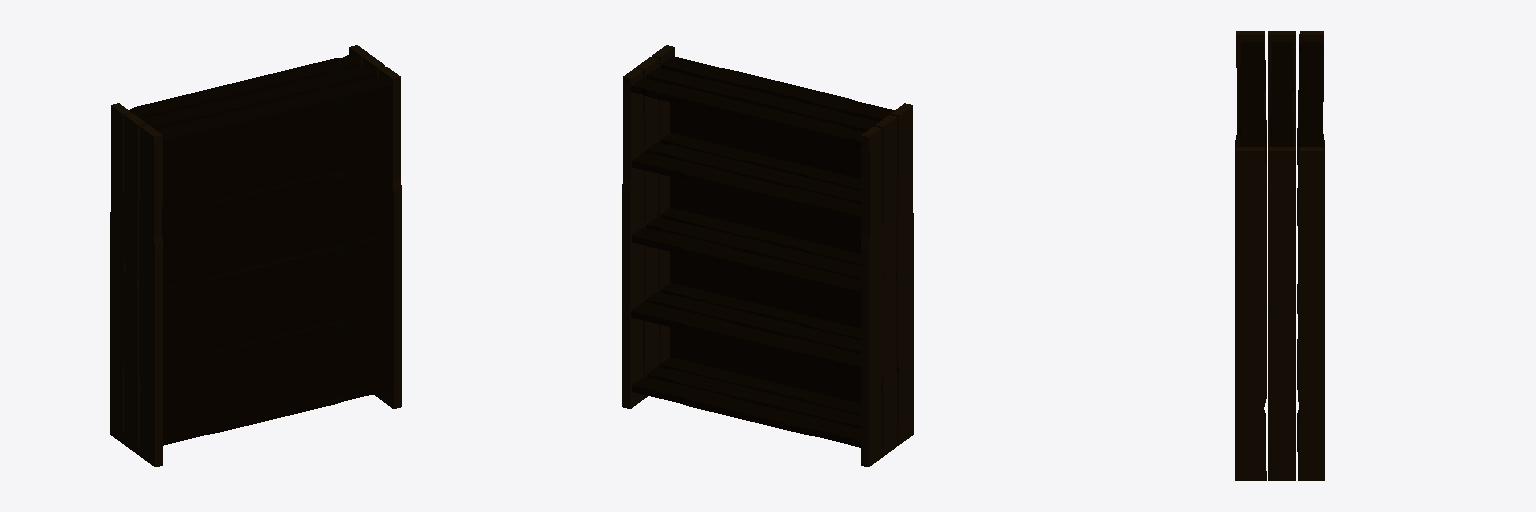
The model's file is Bookcase_Empty.obj.
The picture shows the model from 3 angles: view 1: azimuth 30°, elevation 25°; view 2: azimuth 150°, elevation 25°; view 3: azimuth 270°, elevation 25°; orthographic projection.
Visible parts, largest first — view 1: Bookcase_Empty.001; view 2: Bookcase_Empty.001; view 3: Bookcase_Empty.001.
Part boxes in pixels (bbox=[...]): Bookcase_Empty.001: bbox=[110, 45, 401, 466]; Bookcase_Empty.001: bbox=[622, 45, 913, 466]; Bookcase_Empty.001: bbox=[1235, 31, 1324, 480].
Bounding box in the file's own units: 2.08 × 2.65 × 0.6582.